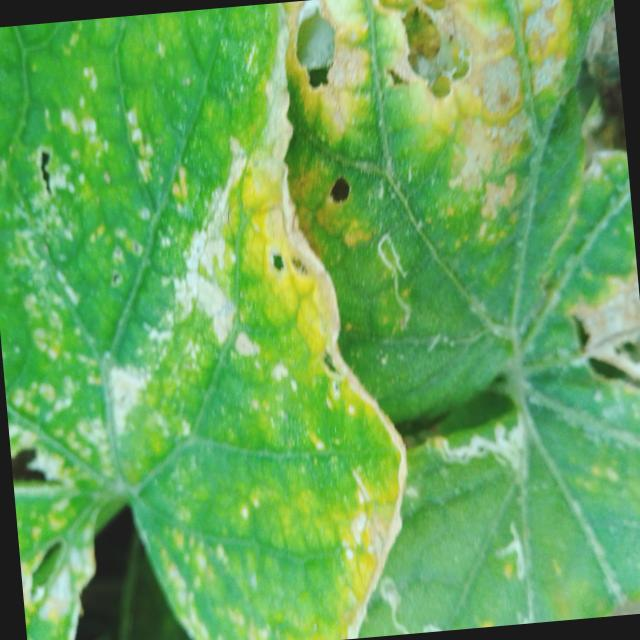cucumber_anthracnose: (0, 50, 340, 422), (287, 0, 622, 251), (8, 429, 79, 640)
